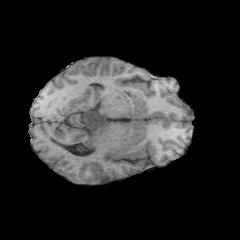glioma: (82, 109, 111, 143)
